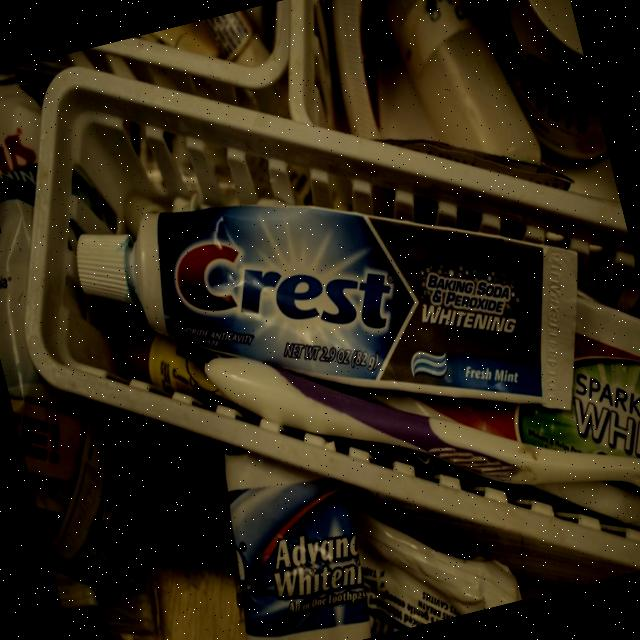Toothpaste: (53, 83, 620, 520)
